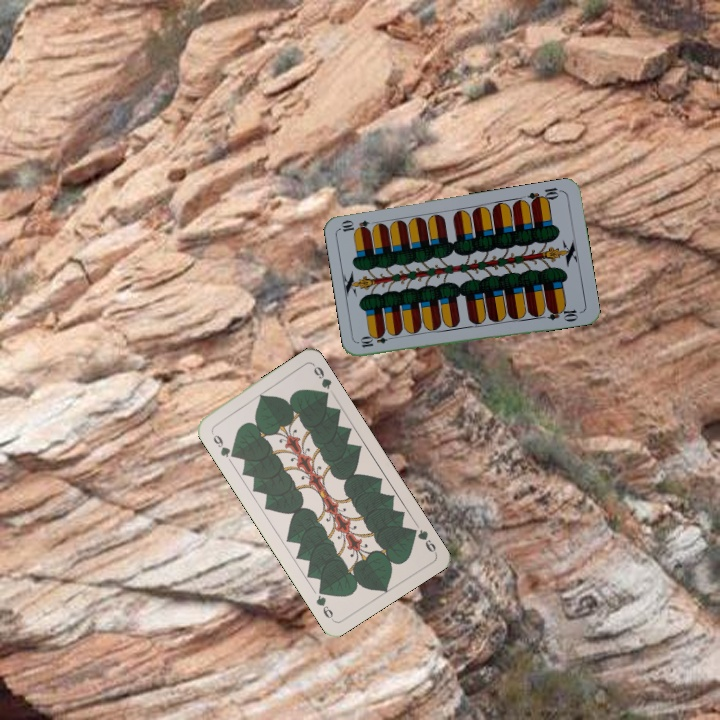E10: (524, 183, 564, 207), (356, 331, 397, 350)
G9: (406, 524, 439, 556), (207, 427, 238, 460)
